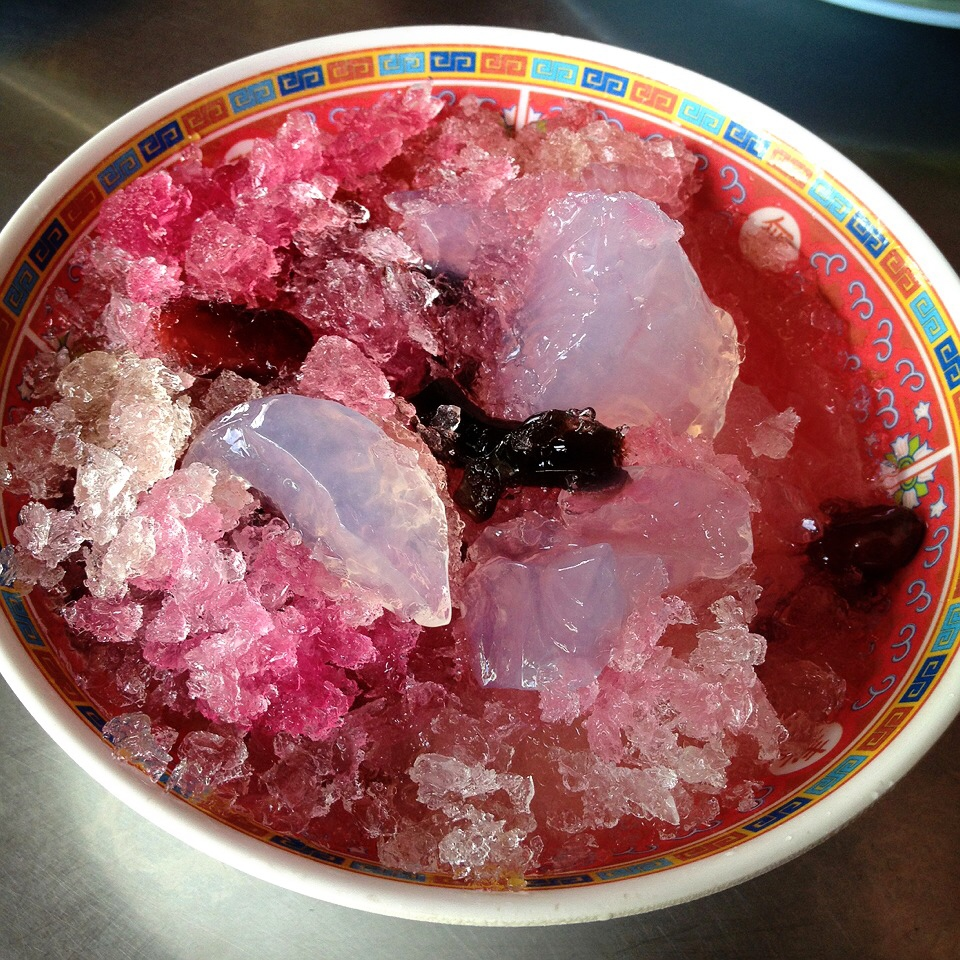O-eo: (7, 27, 955, 960)
